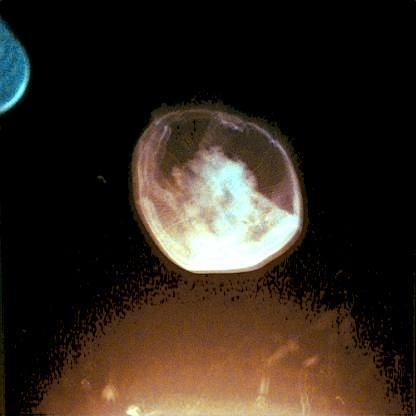Speckle: (3, 22, 33, 115)
